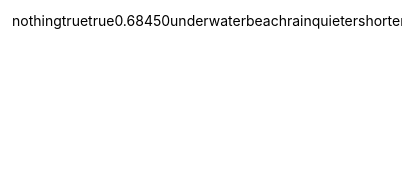
Test: PlaybackProvider › says a sound with no recording is silent rather than pretending to play it
Click the element with test id "open-rain" at point(299, 20), box [287,12,312,29]
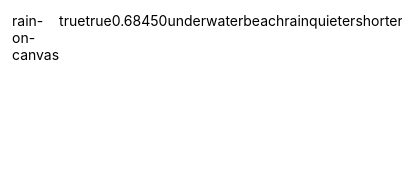
Check: the text "true" is shown, box [59,12,85,29]
Check: the text with test id "sound" reads "rain-on-canvas", box [12,12,59,63]
